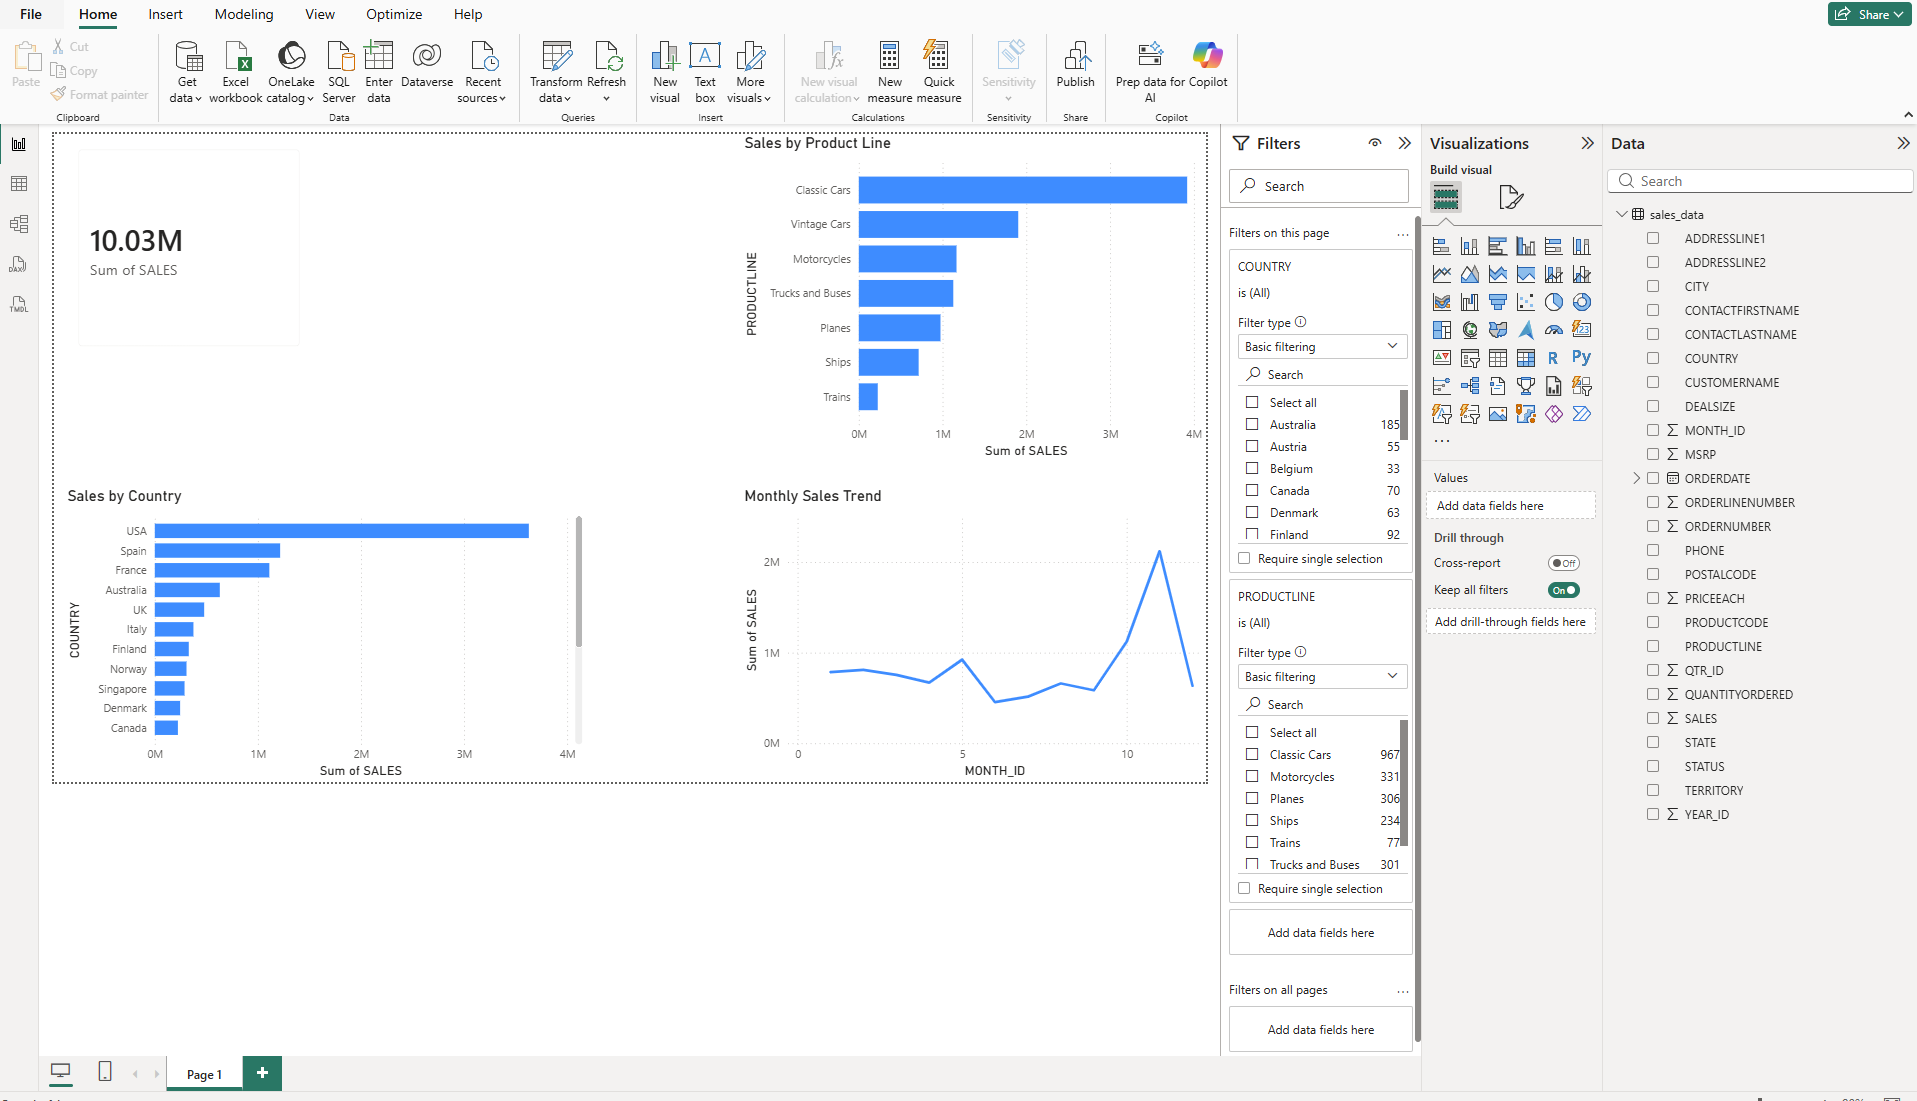

The page's visual inventory and layout, read from the dashboard file:
{"tool":"powerbi","page":{"name":"Page 1","canvas":[1280,720],"ordinal":0},"visuals":[{"type":"cardVisual","fields":{"Data":["Sum(sales_data.SALES)"]},"box":[10,0,280,253.3],"z":0},{"type":"barChart","title":"Sales by Product Line","fields":{"Category":["sales_data.PRODUCTLINE"],"Y":["Sum(sales_data.SALES)"]},"box":[761.7,0,518.3,365],"z":1},{"type":"lineChart","title":"Monthly Sales Trend","fields":{"Y":["Sum(sales_data.SALES)"],"Category":["sales_data.MONTH_ID"]},"box":[762.2,392.2,517.8,327.8],"z":2},{"type":"barChart","title":"Sales by Country","fields":{"Category":["sales_data.COUNTRY"],"Y":["Sum(sales_data.SALES)"]},"box":[10,392.2,582.2,327.8],"z":3}]}

Visuals, with their boxes on the page's 1280x720 design canvas (x1, y1, x2, y2). These are canvas units, not pixel positions in the 1917x1101 screenshot, which may show the page scaled, cropped or inside an application window:
cardVisual - Sum(sales_data.SALES): bbox=(10, 0, 290, 253)
"Sales by Product Line" barChart: bbox=(762, 0, 1280, 365)
"Monthly Sales Trend" lineChart: bbox=(762, 392, 1280, 720)
"Sales by Country" barChart: bbox=(10, 392, 592, 720)
